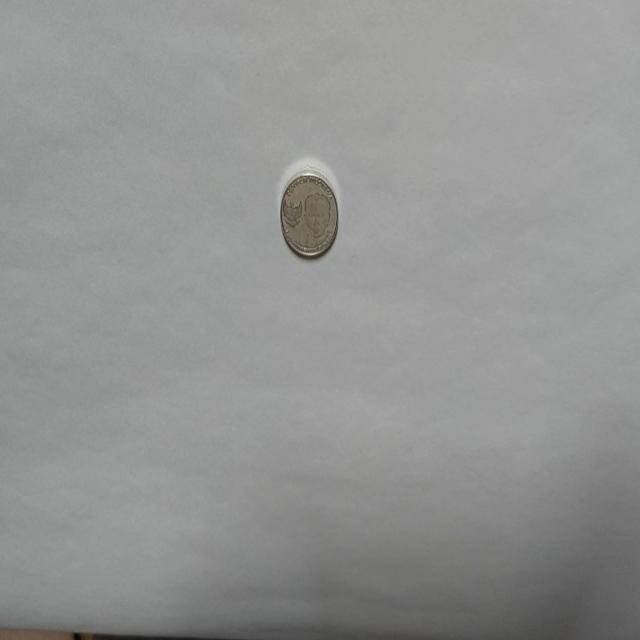seratus rupiah: (279, 168, 339, 258)
